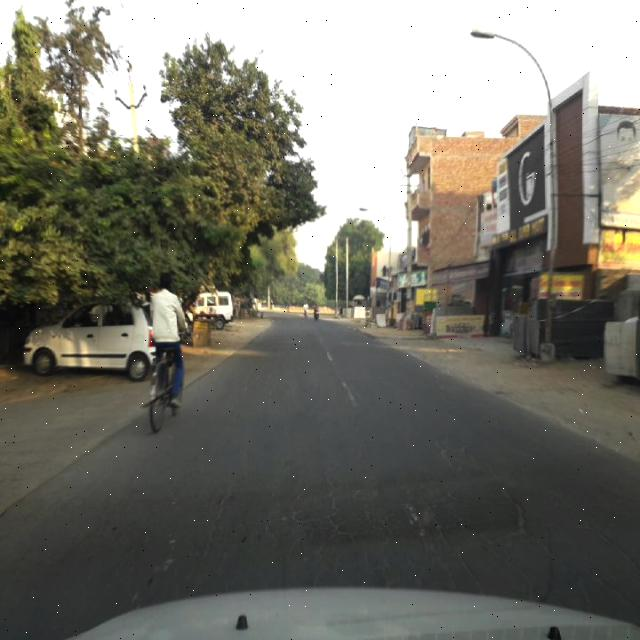D20: (199, 466, 590, 577)
